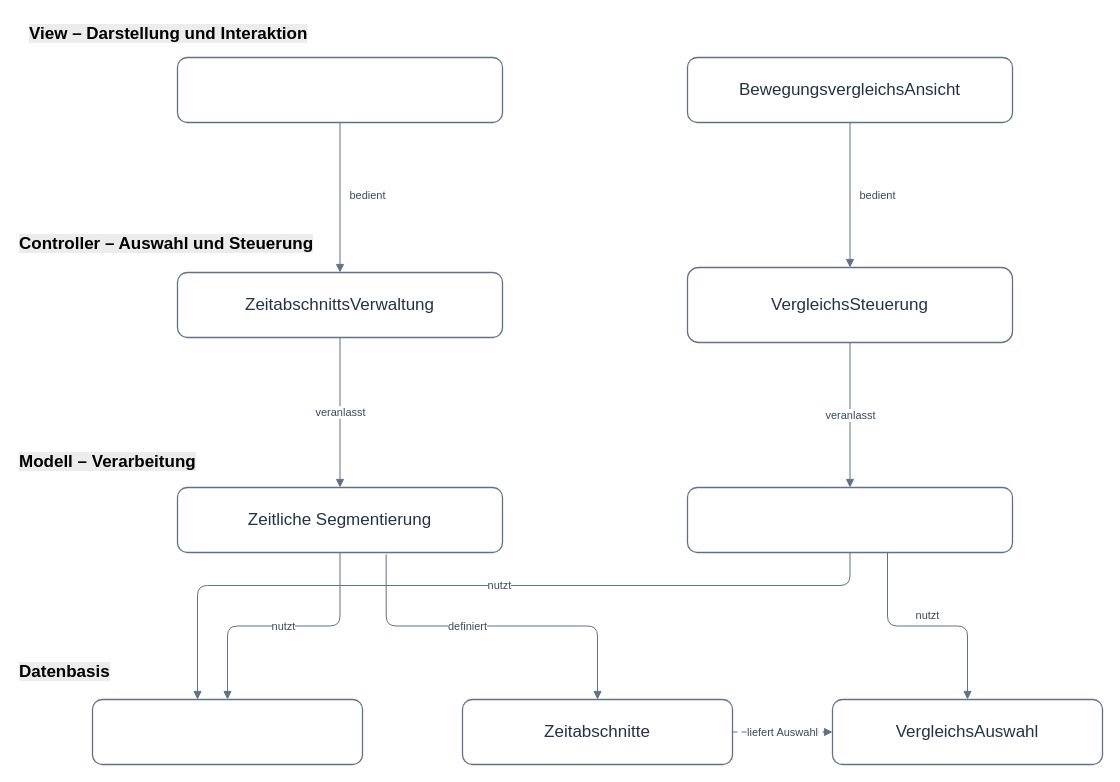
Some shapes in this 1120 by 782 pixel diagram are drawn without their labels. The centre of each missing label's shape, as x and y in pixels:
Aufbereitung des Bewegungsvergleichs: the point at 849,519
Bewegungsdaten: the point at 227,731
ZeitabschnittsAnsicht: the point at 339,89
